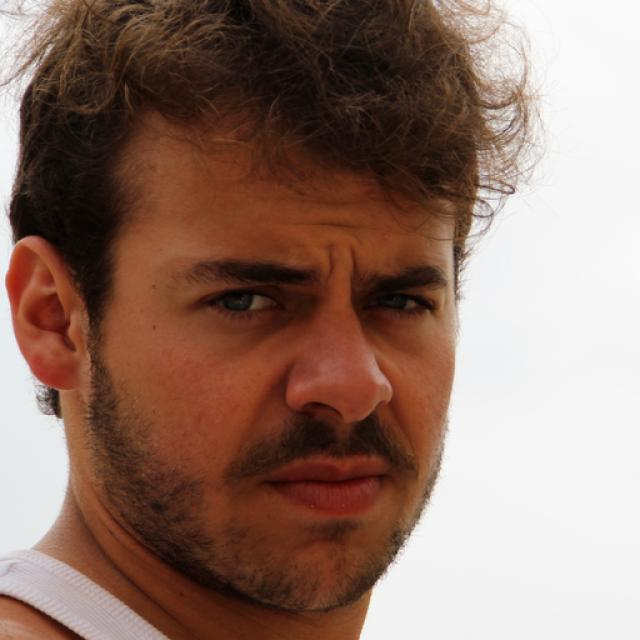disgust: (94, 96, 458, 614)
